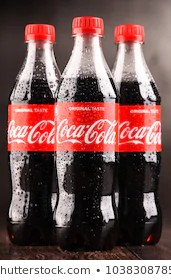coke-bottle-700ml: (55, 14, 119, 248), (9, 20, 58, 247), (115, 21, 163, 249)
